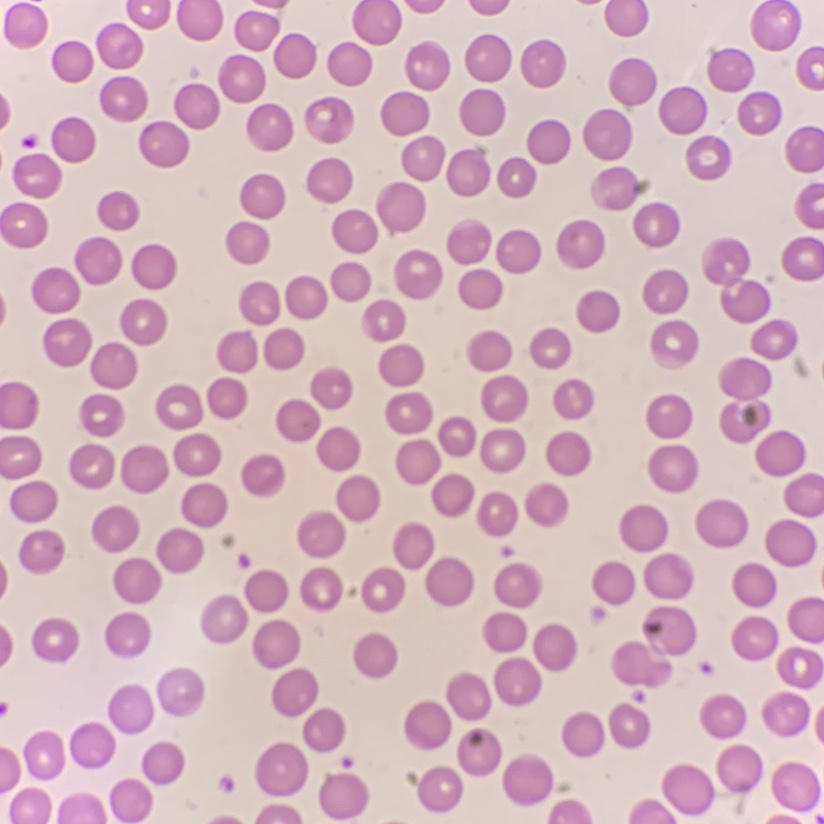RBC: (613, 607, 695, 688), (703, 239, 770, 323), (719, 357, 771, 443), (255, 742, 308, 796), (663, 765, 715, 814), (583, 109, 632, 160), (591, 167, 649, 210), (503, 755, 552, 805), (752, 0, 800, 50), (696, 500, 747, 547), (377, 182, 425, 231), (609, 58, 656, 108), (717, 746, 763, 797), (426, 557, 473, 606), (253, 620, 300, 669), (404, 701, 451, 750), (766, 520, 816, 566), (557, 220, 604, 268), (43, 319, 91, 366), (651, 320, 698, 368), (772, 763, 819, 811), (272, 668, 318, 717), (319, 773, 368, 819), (139, 121, 189, 166), (755, 431, 805, 476), (218, 55, 265, 102), (659, 87, 706, 134), (75, 237, 122, 284), (481, 375, 528, 422), (121, 446, 168, 493), (620, 505, 667, 552), (494, 658, 541, 705), (395, 250, 441, 298), (649, 446, 697, 492), (157, 669, 203, 716), (99, 76, 147, 121), (31, 268, 79, 313), (644, 553, 692, 598), (113, 558, 161, 603), (202, 595, 247, 643), (12, 153, 61, 197), (120, 299, 166, 345), (90, 342, 136, 388), (92, 506, 138, 552), (465, 34, 510, 81), (305, 97, 352, 142), (247, 103, 292, 150), (108, 686, 153, 733), (353, 0, 401, 44), (96, 23, 142, 68), (460, 89, 505, 135), (417, 766, 462, 812), (521, 40, 565, 87), (381, 91, 428, 135), (0, 203, 47, 247), (298, 513, 345, 557), (156, 529, 203, 573), (446, 673, 490, 720), (457, 729, 501, 776), (406, 42, 449, 90), (447, 146, 489, 195), (174, 83, 219, 128), (633, 203, 679, 247), (156, 385, 202, 429), (646, 394, 692, 438), (181, 483, 227, 527), (494, 563, 540, 607), (762, 692, 808, 736), (307, 158, 352, 202), (240, 174, 284, 219), (332, 209, 377, 253), (132, 244, 176, 289), (643, 269, 688, 313), (396, 439, 440, 484), (105, 612, 149, 657), (353, 633, 397, 678), (70, 723, 114, 768), (708, 49, 754, 92), (732, 617, 778, 660), (546, 431, 590, 475), (4, 3, 47, 48), (51, 117, 94, 162), (32, 618, 77, 661), (700, 695, 745, 738), (174, 434, 220, 476), (337, 475, 379, 521), (534, 624, 576, 670), (496, 230, 540, 273), (480, 429, 524, 472), (70, 444, 113, 488), (19, 530, 63, 573), (386, 392, 432, 433), (10, 481, 56, 522), (328, 42, 371, 85), (527, 120, 570, 163), (447, 221, 490, 264), (733, 563, 776, 606), (402, 136, 444, 180), (379, 344, 423, 386), (362, 568, 404, 612), (778, 647, 822, 689), (302, 708, 344, 752), (609, 703, 650, 748), (562, 712, 603, 757), (751, 319, 797, 359), (393, 523, 433, 569), (23, 732, 63, 778), (738, 92, 781, 134), (687, 136, 729, 179), (226, 222, 269, 264), (277, 399, 320, 441), (317, 427, 359, 470), (431, 474, 473, 517), (525, 483, 567, 526), (593, 562, 635, 605), (245, 570, 288, 612), (142, 742, 184, 785), (274, 34, 315, 78), (177, 0, 222, 40), (577, 290, 619, 332), (81, 394, 123, 436), (242, 454, 284, 496), (300, 568, 342, 610), (782, 237, 823, 280), (0, 436, 41, 479), (110, 779, 151, 822), (477, 492, 517, 536), (286, 276, 327, 318), (310, 367, 351, 409), (239, 282, 279, 325), (467, 331, 510, 371), (483, 612, 526, 652), (0, 382, 37, 428), (52, 41, 93, 82), (459, 269, 502, 308), (235, 12, 279, 50), (786, 127, 823, 172), (363, 300, 404, 340), (530, 328, 570, 369), (785, 474, 823, 517), (264, 329, 304, 369), (553, 379, 593, 419), (97, 191, 138, 230), (218, 331, 257, 372), (788, 597, 823, 642), (207, 378, 246, 418), (605, 0, 648, 36), (331, 262, 370, 301), (497, 157, 535, 197), (9, 788, 50, 823), (439, 417, 475, 456), (58, 794, 105, 823), (795, 183, 823, 229), (127, 0, 169, 28), (797, 47, 823, 89), (630, 799, 674, 823), (548, 801, 591, 823), (0, 748, 19, 792), (256, 804, 300, 823), (471, 0, 507, 14), (408, 0, 441, 12), (0, 628, 11, 663), (0, 97, 9, 125), (219, 776, 234, 791), (793, 359, 806, 376), (591, 607, 604, 623), (816, 711, 823, 739), (22, 134, 37, 147), (258, 0, 285, 7), (214, 816, 237, 823), (222, 534, 234, 547), (771, 817, 796, 823), (700, 662, 712, 674), (0, 567, 6, 590), (238, 555, 249, 567), (557, 782, 569, 792), (342, 756, 352, 767), (502, 547, 510, 556), (634, 691, 642, 700), (0, 702, 6, 714), (0, 302, 4, 317)
